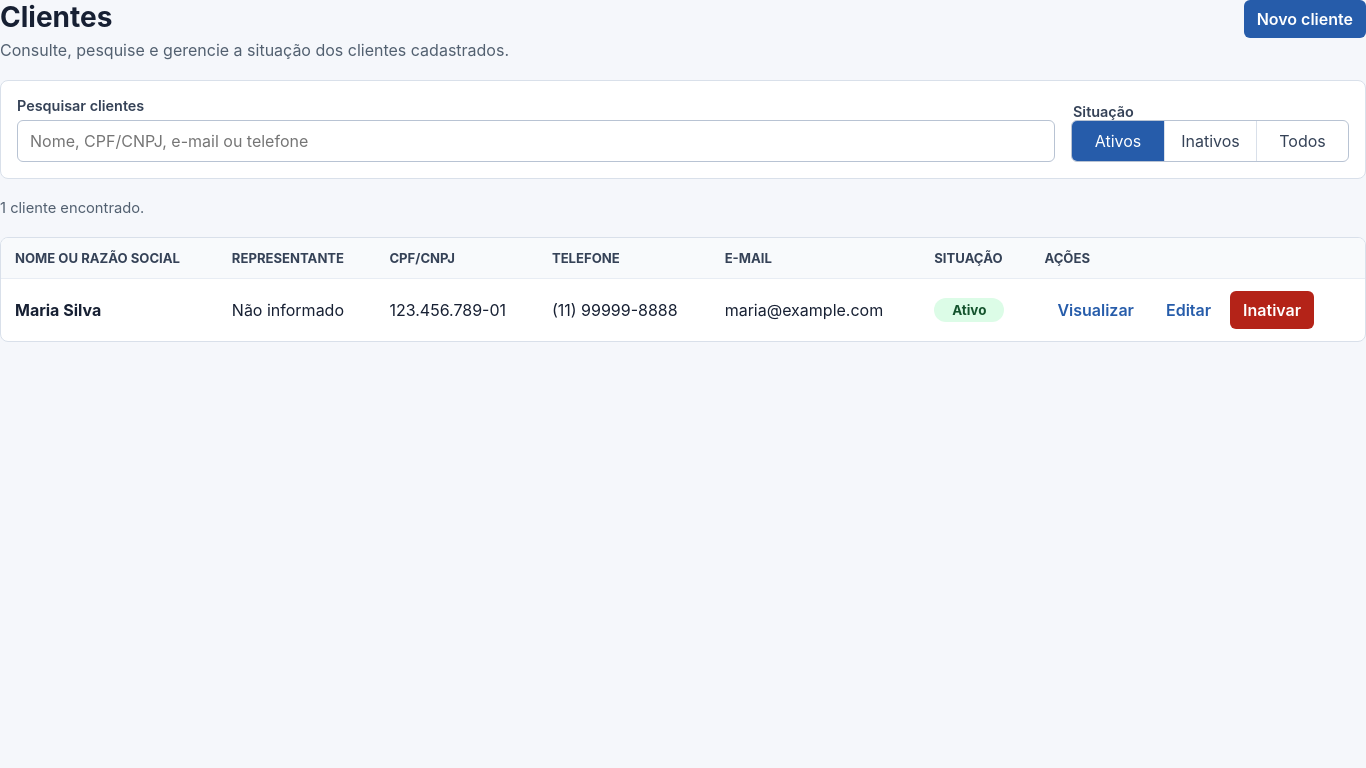
CustomerListPage › cancels inactivation
Click the button with aria-label "Inativar cliente Maria Silva" at (1272, 310), box [1230,291,1314,329]
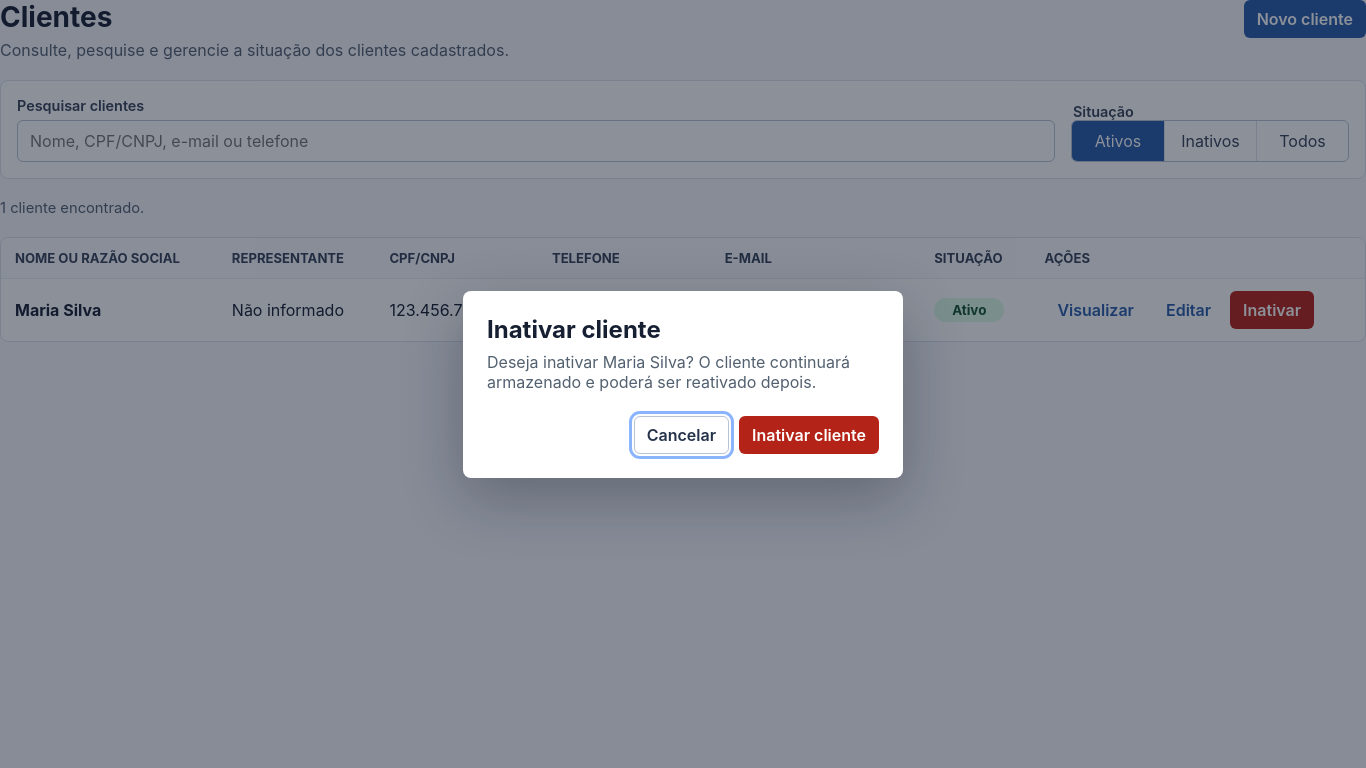
Click the button "Cancelar" at (681, 434), box [634,416,729,454]
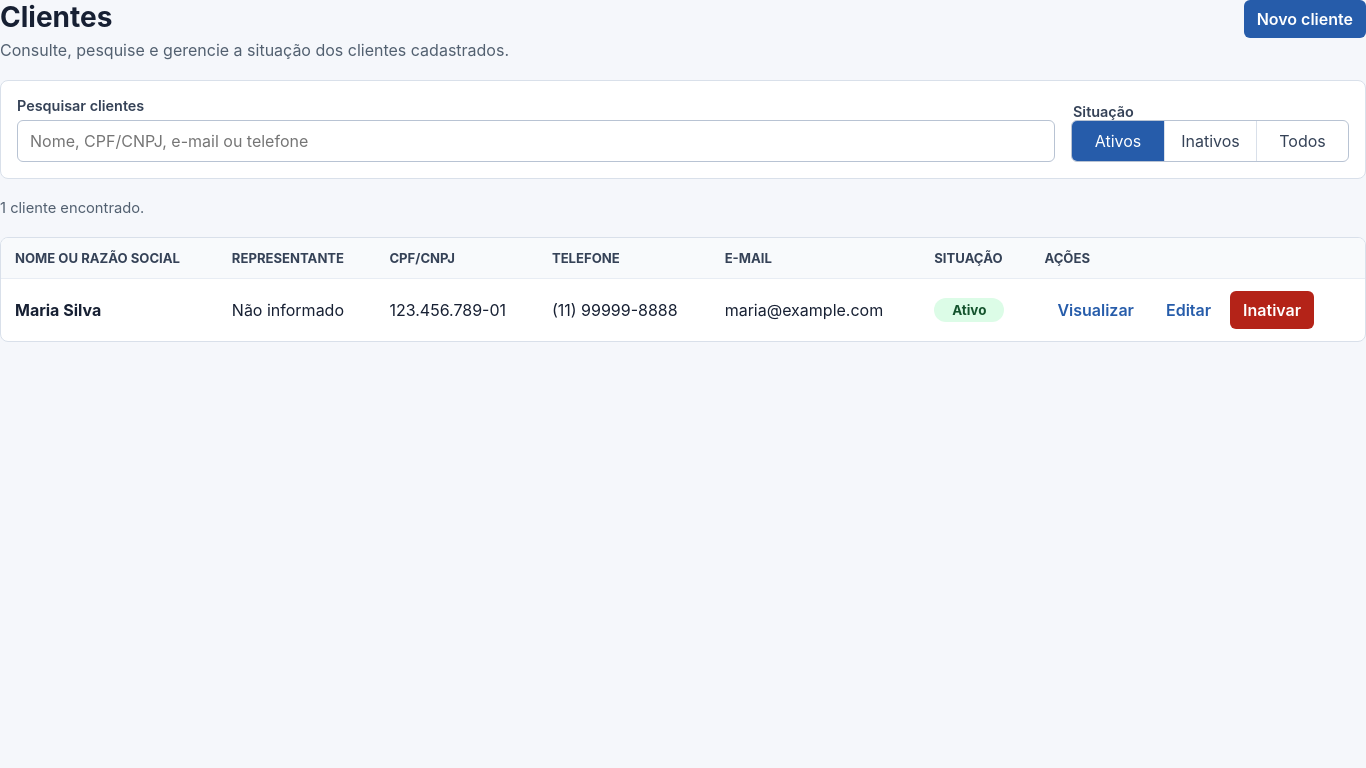
expect the dialog is gone: met
